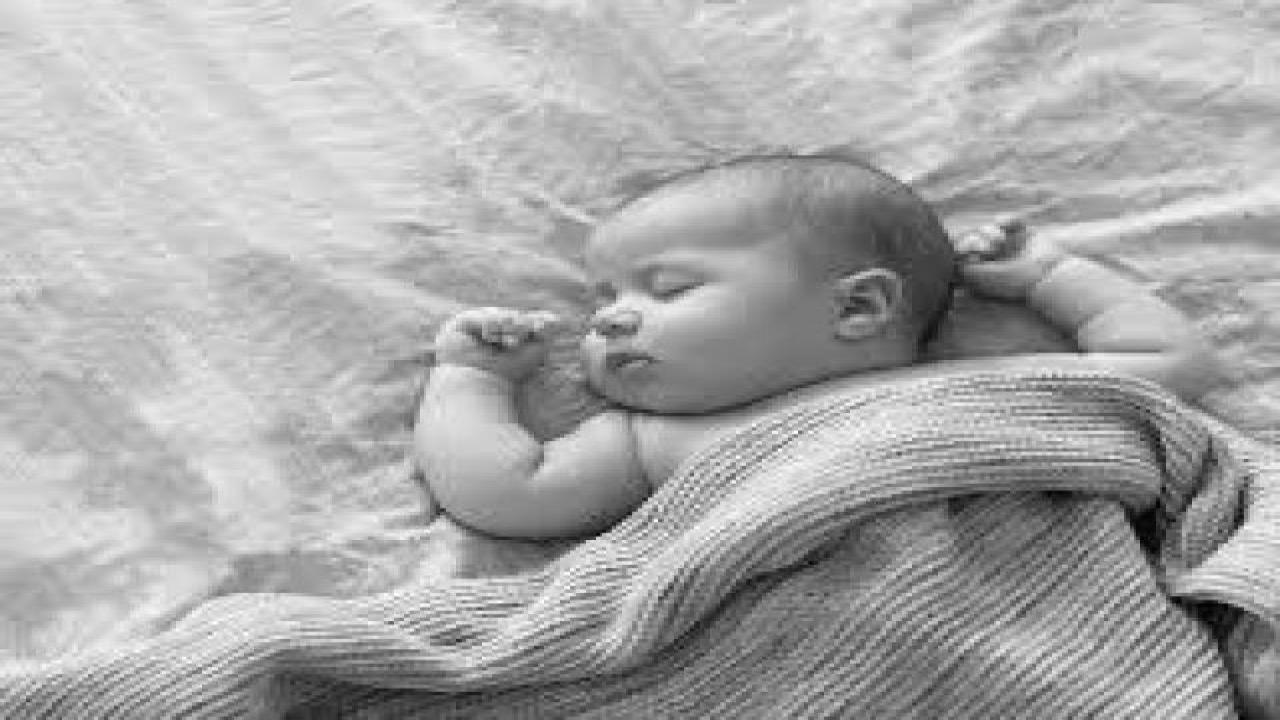hand: (952, 212, 1072, 306), (434, 310, 562, 374)
